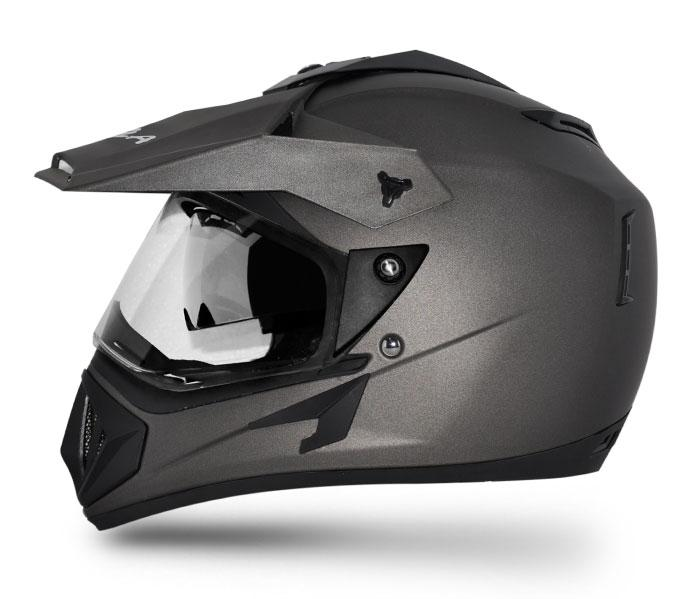helmet: (37, 51, 656, 529)
